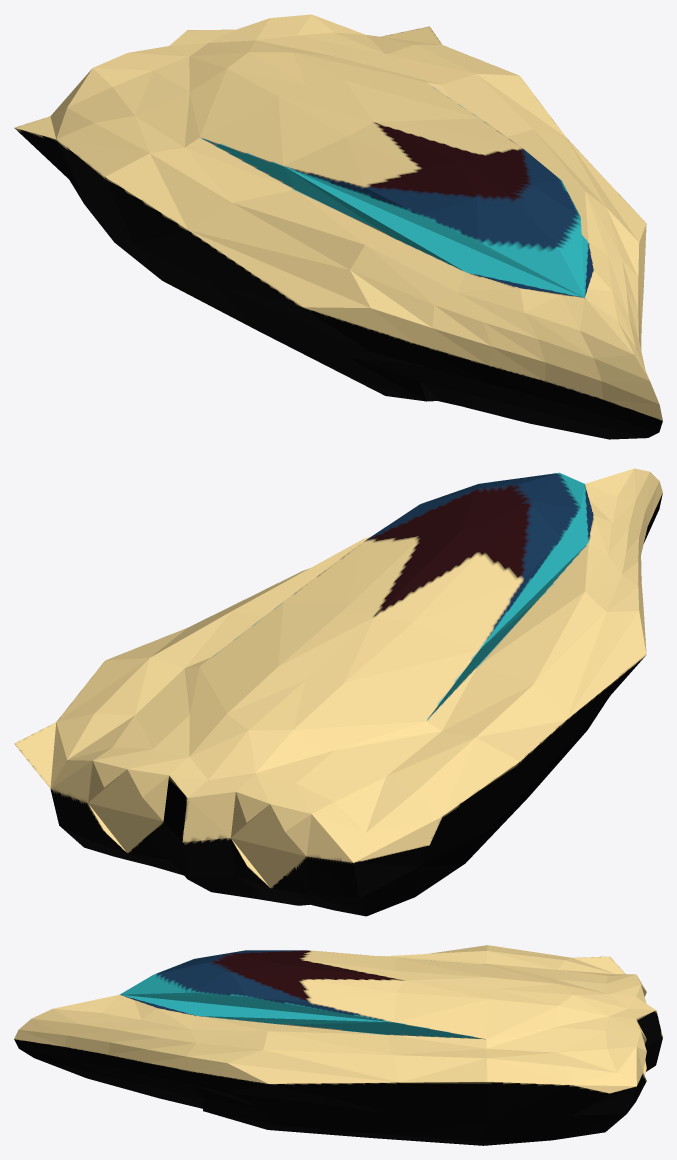
The model's file is spaceship body 3.FBX.
3 renders of one model, top to bottom at view 1: azimuth 30°, elevation 25°; view 2: azimuth 150°, elevation 25°; view 3: azimuth 270°, elevation 25°, orthographic. The views are drawn at different scales.
Parts seen in each view (by area): view 1: Box001; view 2: Box001; view 3: Box001.
Boxes of the visible parts, x1,y1,x2,y2 form: Box001: (14, 14, 662, 439); Box001: (14, 468, 662, 916); Box001: (14, 945, 662, 1145).
Bounding box in the file's own units: 57.57 × 33.15 × 115.
1 material, 1 textured.
